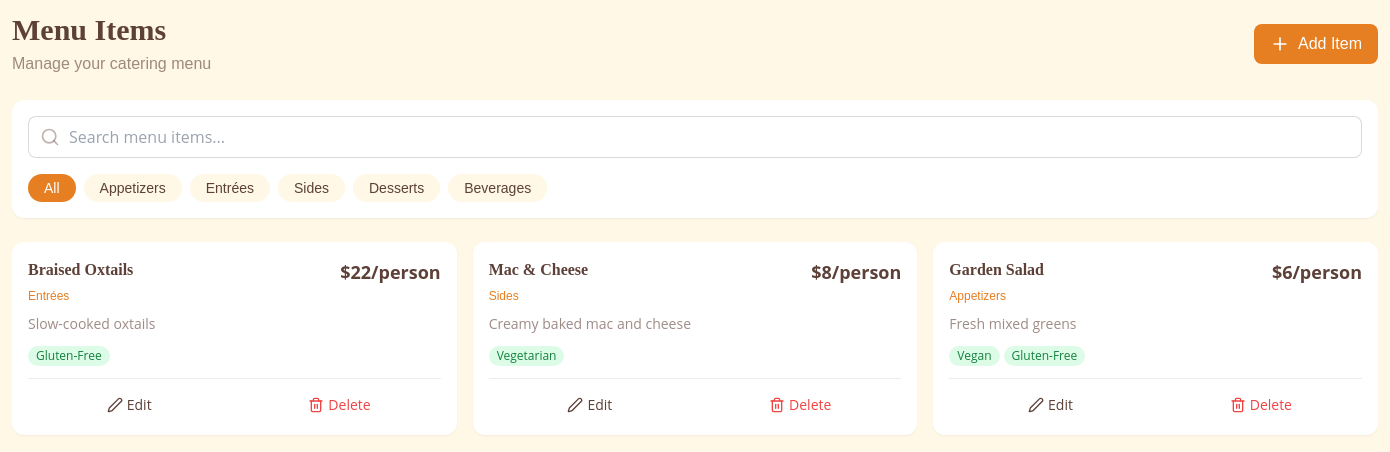
Admin Menu Management Page › filters items by category
The width and height of the screenshot is (1390, 452).
Expected: the heading "Braised Oxtails" is shown, 28,258 -> 133,282
Click the button "Sides" at (312, 188), box 278,174 -> 345,202
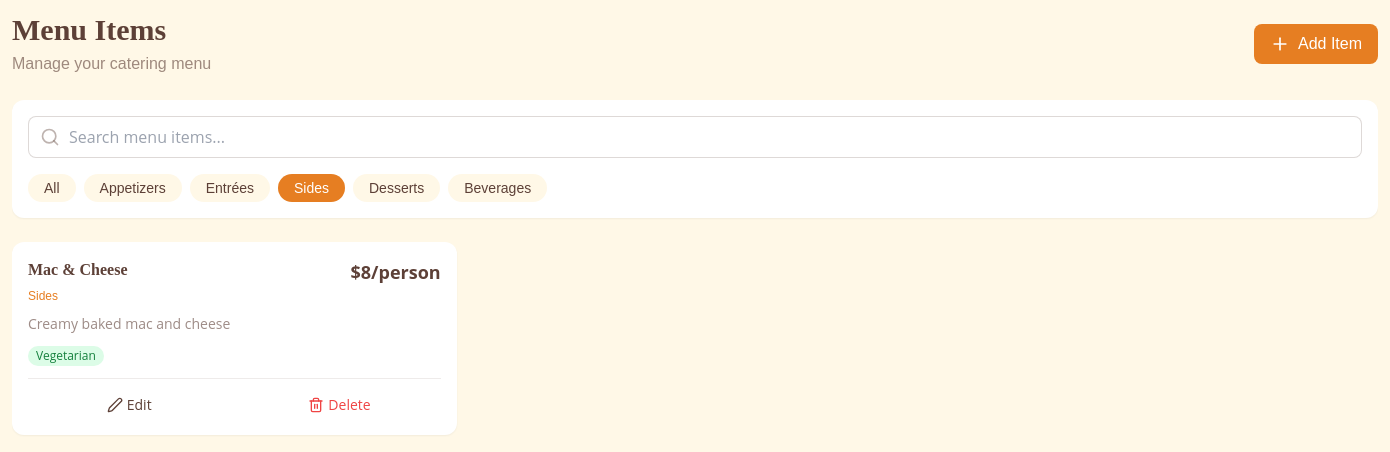
Expected: the heading "Mac & Cheese" is shown, 28,258 -> 128,282
Expected: the heading "Braised Oxtails" is gone
Expected: the heading "Garden Salad" is gone
